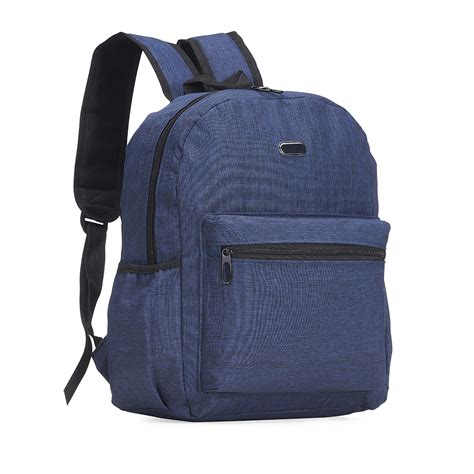nylon: (64, 31, 393, 423)
